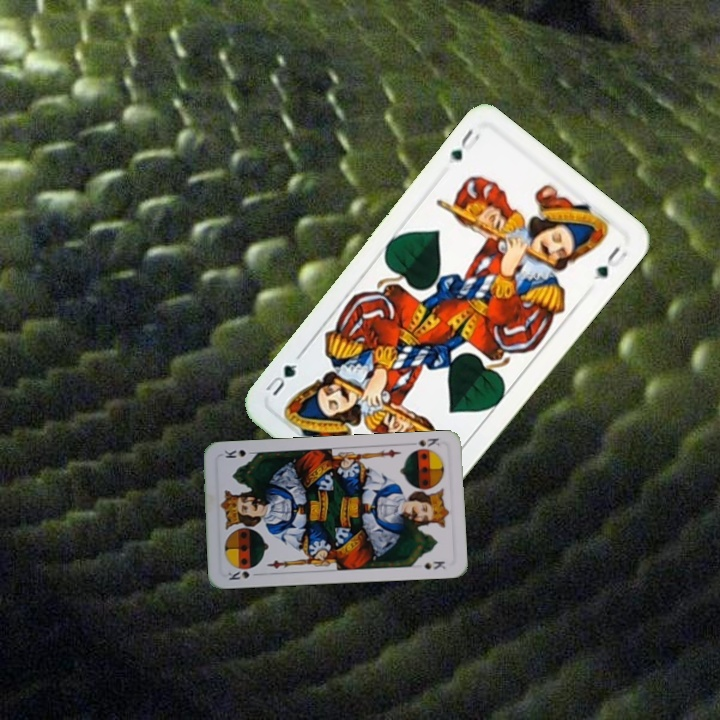GU: (446, 124, 483, 164)
SK: (224, 567, 263, 583), (414, 434, 442, 449)
